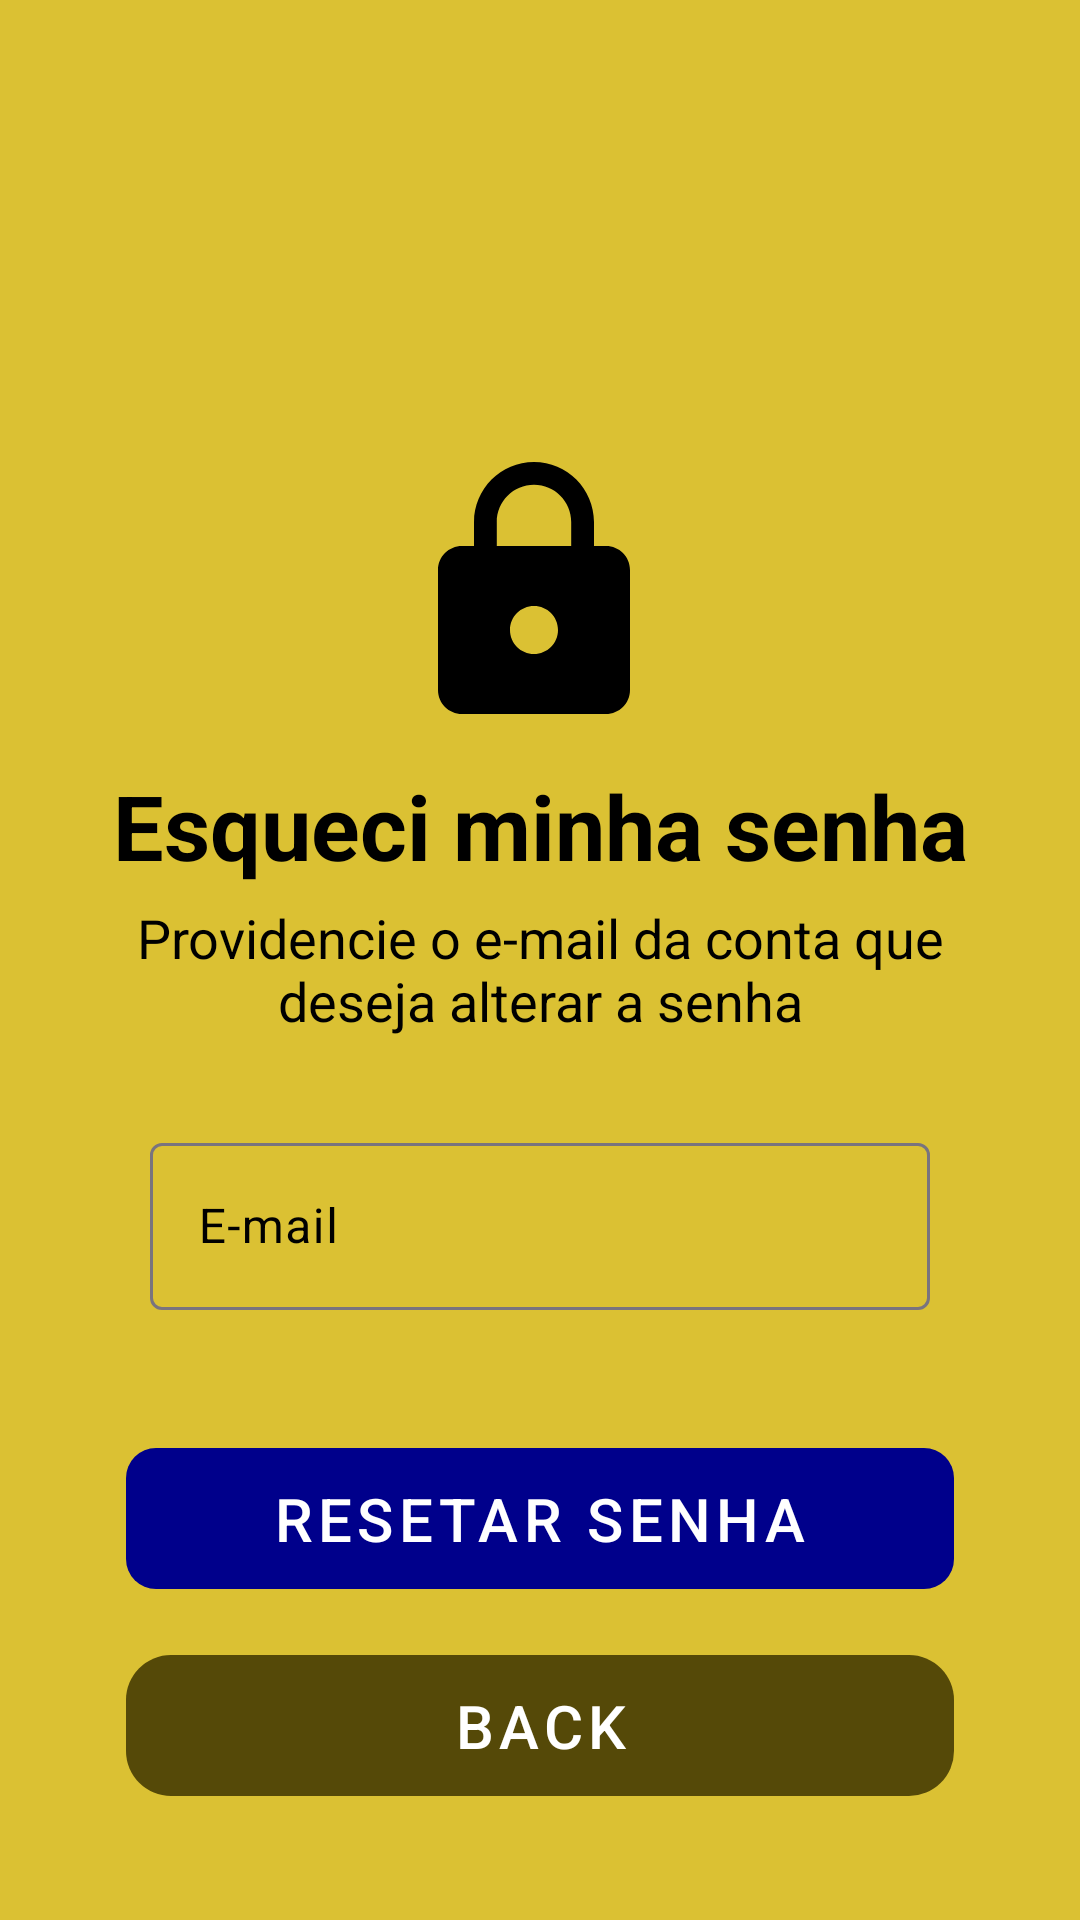

Screen size 1080w x 1920h. Icon name, then its box in pixels as {"x1": x1, "y1": y1, "x2": x2, "y2": y2}:
lock: {"x1": 438, "y1": 462, "x2": 630, "y2": 714}
